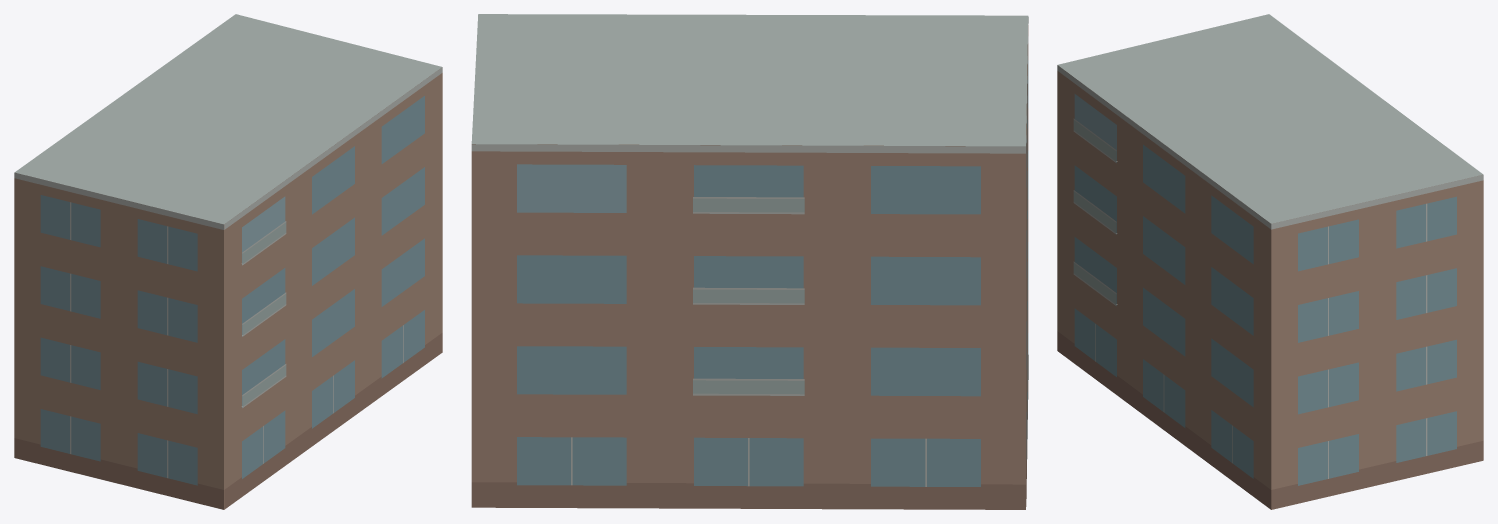
Rendered from survey-upis-32966747.glb.
3 renders of one model, left to right at view 1: azimuth 30°, elevation 25°; view 2: azimuth 150°, elevation 25°; view 3: azimuth 270°, elevation 25°, orthographic. The views are drawn at different scales.
Parts seen in each view (by area): view 1: survey-upis-32966747.tmp; view 2: survey-upis-32966747.tmp; view 3: survey-upis-32966747.tmp.
Boxes of the visible parts, left/top/right/bottom form: survey-upis-32966747.tmp: left=14, top=14, right=442, bottom=509; survey-upis-32966747.tmp: left=471, top=14, right=1028, bottom=509; survey-upis-32966747.tmp: left=1057, top=14, right=1483, bottom=509.
Size of the model in its own units: 19.21 by 12.2 by 16.49.
